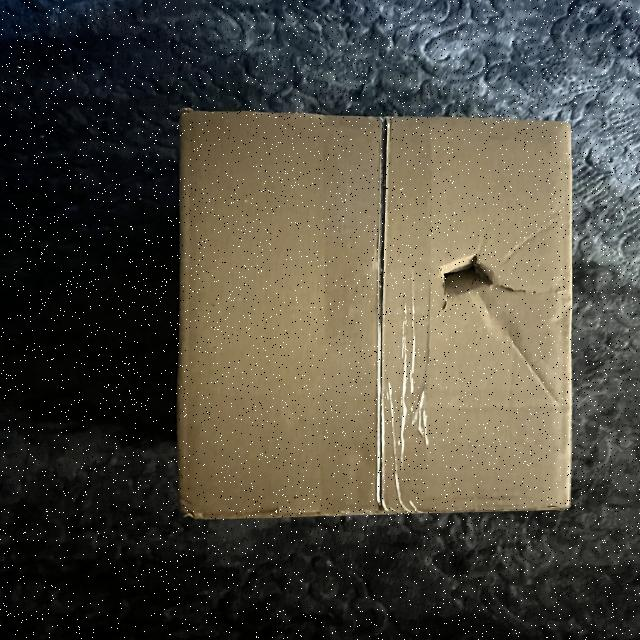damaged: (169, 98, 587, 534), (428, 235, 530, 337)
